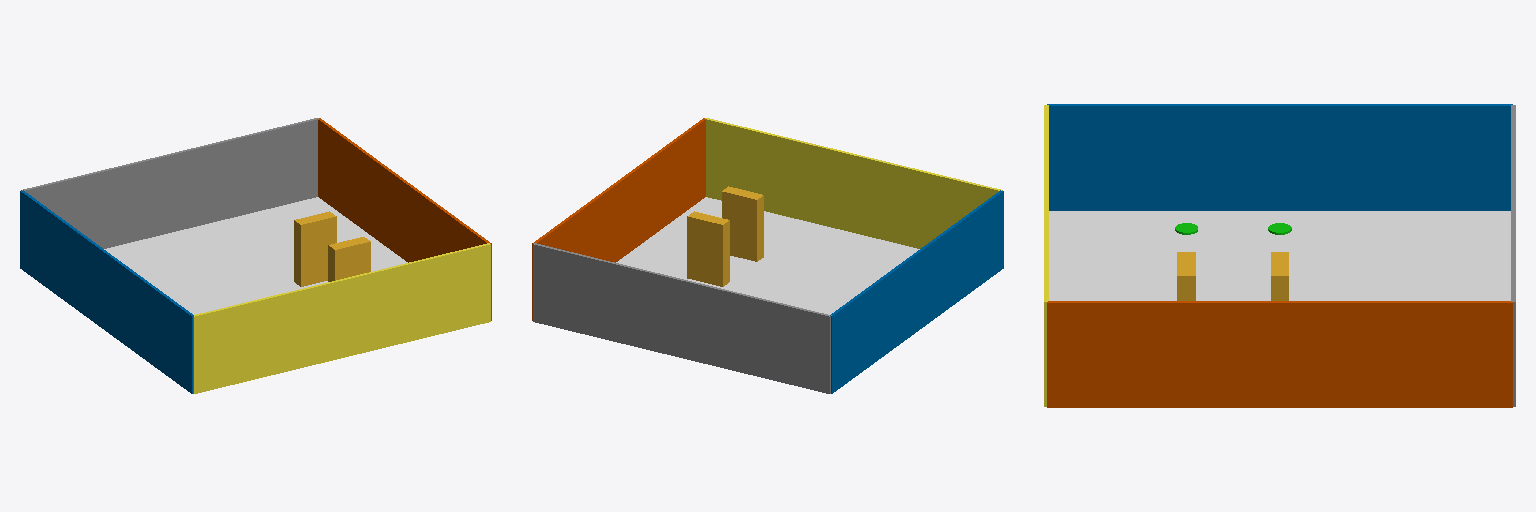
The robot description file, URDF, robot "warehouse":
<?xml version="1.0"?>
<robot name="warehouse">

  <!-- Root frame -->
  <link name="world"/>

  <!-- Floor -->
  <link name="floor">
    <visual>
      <geometry>
        <box size="10 10 0.02"/>
      </geometry>
      <material name="floor">
        <color rgba="0.9 0.9 0.9 1"/>
      </material>
    </visual>
  </link>
  <joint name="floor_joint" type="fixed">
    <parent link="world"/>
    <child link="floor"/>
    <origin xyz="0 0 -0.01"/>
  </joint>

  <!-- Back wall -->
  <link name="wall_back">
    <visual>
      <geometry>
        <box size="10 0.1 2.5"/>
      </geometry>
      <material name="wall">
        <color rgba="0.6 0.6 0.6 1"/>
      </material>
    </visual>
  </link>
  <joint name="wall_back_joint" type="fixed">
    <parent link="world"/>
    <child link="wall_back"/>
    <origin xyz="0 5 1.25"/>
  </joint>

  <!-- Front wall -->
  <link name="wall_front">
    <visual>
      <geometry>
        <box size="10 0.1 2.5"/>
      </geometry>
    </visual>
  </link>
  <joint name="wall_front_joint" type="fixed">
    <parent link="world"/>
    <child link="wall_front"/>
    <origin xyz="0 -5 1.25"/>
  </joint>

  <!-- Left wall -->
  <link name="wall_left">
    <visual>
      <geometry>
        <box size="0.1 10 2.5"/>
      </geometry>
    </visual>
  </link>
  <joint name="wall_left_joint" type="fixed">
    <parent link="world"/>
    <child link="wall_left"/>
    <origin xyz="-5 0 1.25"/>
  </joint>

  <!-- Right wall -->
  <link name="wall_right">
    <visual>
      <geometry>
        <box size="0.1 10 2.5"/>
      </geometry>
    </visual>
  </link>
  <joint name="wall_right_joint" type="fixed">
    <parent link="world"/>
    <child link="wall_right"/>
    <origin xyz="5 0 1.25"/>
  </joint>

  <!-- Shelf -->
  <link name="shelf_1">
    <visual>
      <geometry>
        <box size="1.2 0.4 2.0"/>
      </geometry>
      <material name="shelf">
        <color rgba="0.9 0.7 0.2 1"/>
      </material>
    </visual>
  </link>
  <joint name="shelf_1_joint" type="fixed">
    <parent link="world"/>
    <child link="shelf_1"/>
    <origin xyz="2 0 1.0"/>
  </joint>
    
  <link name="shelf_2">
    <visual>
      <geometry>
        <box size="1.2 0.4 2.0"/>
      </geometry>
      <material name="shelf">
        <color rgba="0.9 0.7 0.2 1"/>
      </material>
    </visual>
  </link>
  <joint name="shelf_2_joint" type="fixed">
    <parent link="world"/>
    <child link="shelf_2"/>
    <origin xyz="2 -2 1.0"/>
  </joint>

  <link name="delivery_1">
  <visual>
    <geometry>
      <cylinder radius="0.25" length="0.05"/>
    </geometry>
    <material name="green">
      <color rgba="0.1 0.8 0.1 1"/>
    </material>
  </visual>
</link>

<joint name="delivery_1_joint" type="fixed">
  <parent link="world"/>
  <child link="delivery_1"/>
  <origin xyz="-4 0 0.025"/>
</joint>

  <link name="delivery_2">
  <visual>
    <geometry>
      <cylinder radius="0.25" length="0.05"/>
    </geometry>
    <material name="green">
      <color rgba="0.1 0.8 0.1 1"/>
    </material>
  </visual>
</link>

<joint name="delivery_2_joint" type="fixed">
  <parent link="world"/>
  <child link="delivery_2"/>
  <origin xyz="-4 -2 0.025"/>
</joint>

</robot>

--- What the picture shows (computed from the rendered views, not written in the file) ---
The picture shows the robot from 3 angles, left to right: view 1: azimuth 30°, elevation 25°; view 2: azimuth 150°, elevation 25°; view 3: azimuth 270°, elevation 25°; orthographic projection.
Model warehouse with 10 links and 9 joints (9 fixed), rooted at world, posed all joints at 0.
Visible links, largest first — view 1: wall_front, wall_back, floor, wall_left, wall_right, shelf_1, shelf_2; view 2: wall_back, wall_front, floor, wall_left, wall_right, shelf_1, shelf_2; view 3: wall_right, wall_left, floor, wall_back, wall_front, shelf_2, shelf_1.
Link boxes in pixels (x1,y1,x2,y2): wall_front: [193, 243, 490, 393]; wall_back: [21, 118, 318, 248]; floor: [104, 197, 407, 314]; wall_left: [20, 190, 193, 393]; wall_right: [318, 118, 491, 320]; shelf_1: [294, 211, 336, 286]; shelf_2: [328, 237, 370, 281]; wall_back: [533, 243, 831, 393]; wall_front: [705, 118, 1002, 248]; floor: [616, 197, 919, 314]; wall_left: [830, 190, 1003, 393]; wall_right: [532, 118, 705, 320]; shelf_1: [687, 211, 729, 286]; shelf_2: [722, 186, 763, 261]; wall_right: [1047, 301, 1512, 407]; wall_left: [1047, 104, 1512, 210]; floor: [1049, 211, 1510, 300]; wall_back: [1511, 105, 1515, 406]; wall_front: [1044, 105, 1048, 406]; shelf_2: [1177, 252, 1195, 300]; shelf_1: [1271, 252, 1288, 300].
Size in the robot's own frame: 10.1 by 10.1 by 2.52 metres.
Geometry: primitives only (box / cylinder / sphere), no mesh files.